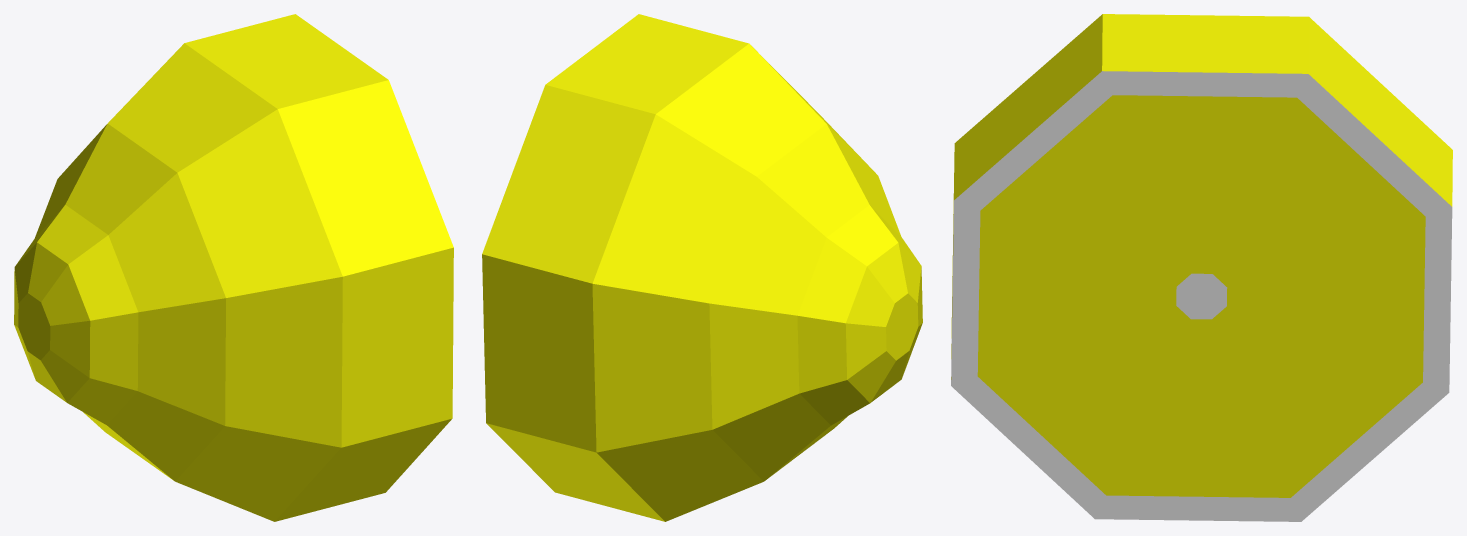
File: lemon02.obj
The picture shows the model from 3 angles, left to right: view 1: azimuth 30°, elevation 25°; view 2: azimuth 150°, elevation 25°; view 3: azimuth 270°, elevation 25°; orthographic projection. The views are drawn at different scales.
Parts seen in each view (by area): view 1: Cylinder; view 2: Cylinder; view 3: Cylinder.
Part boxes in pixels (<box>): Cylinder: <box>14,14,453,521</box>; Cylinder: <box>482,14,922,521</box>; Cylinder: <box>951,14,1452,521</box>.
Bounding box in the file's own units: 0.0417 × 0.0533 × 0.0531.
Materials: 1 (1 with a texture image).
